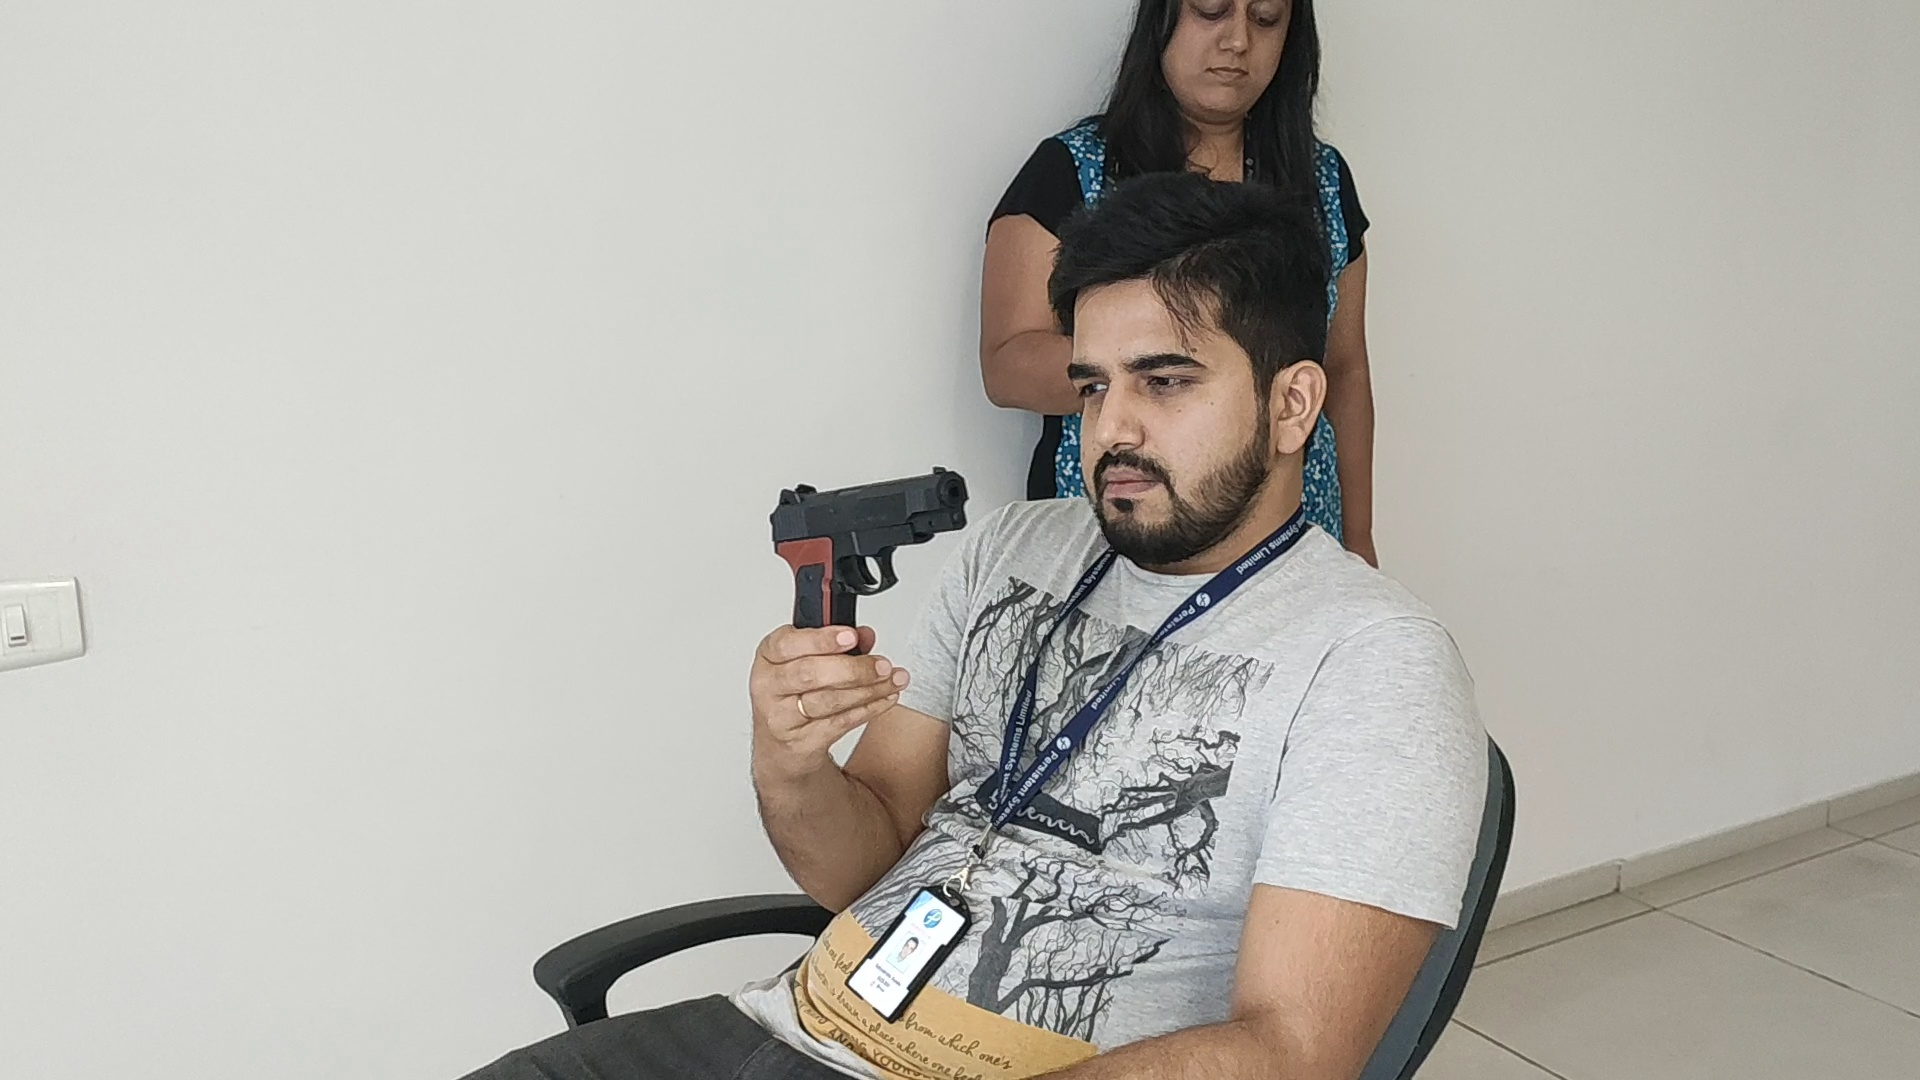gun: (765, 469, 971, 621)
